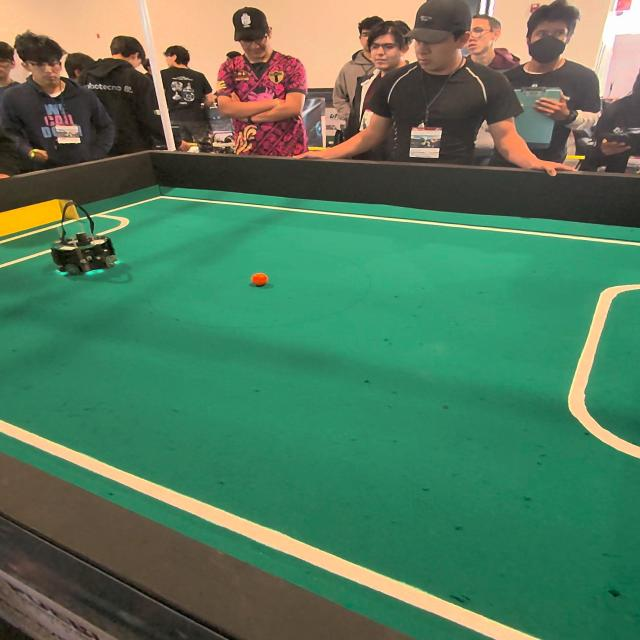Robot: (46, 199, 122, 283)
pelota: (246, 270, 278, 294)
